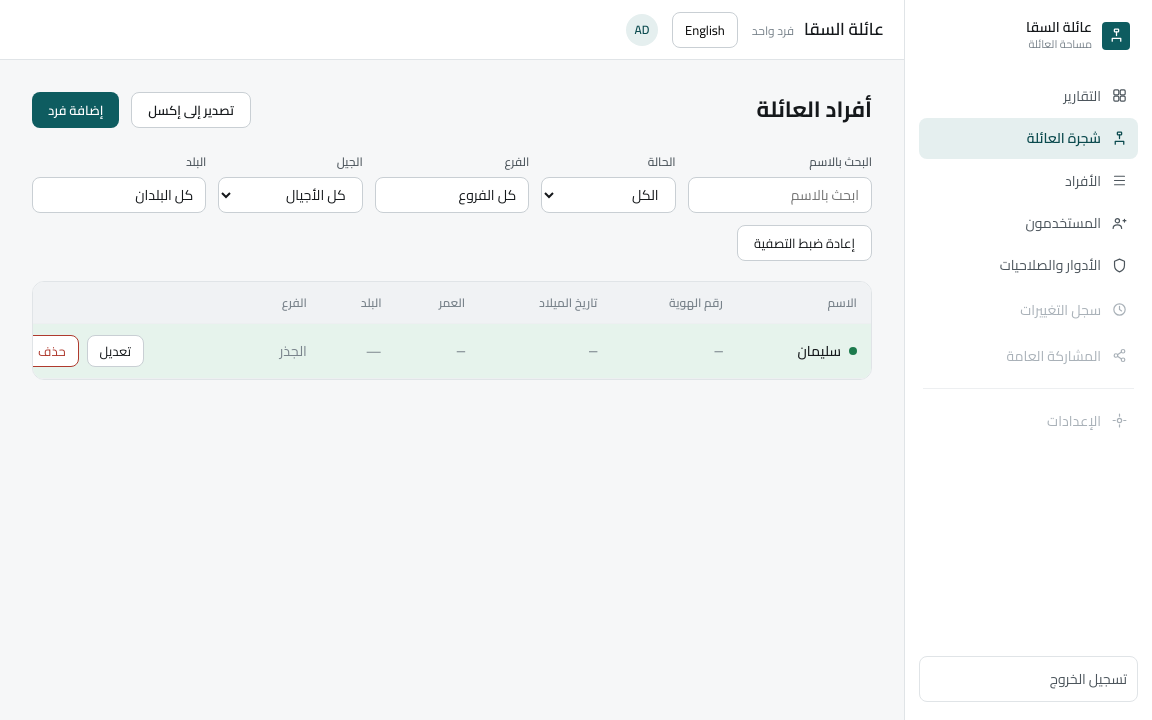
Test: MembersPage › translates a server error code instead of showing it raw
expect the text "سليمان" is shown: met, box [797, 340, 841, 363]
Click the button "حذف" at (52, 351), box [25, 335, 79, 367]
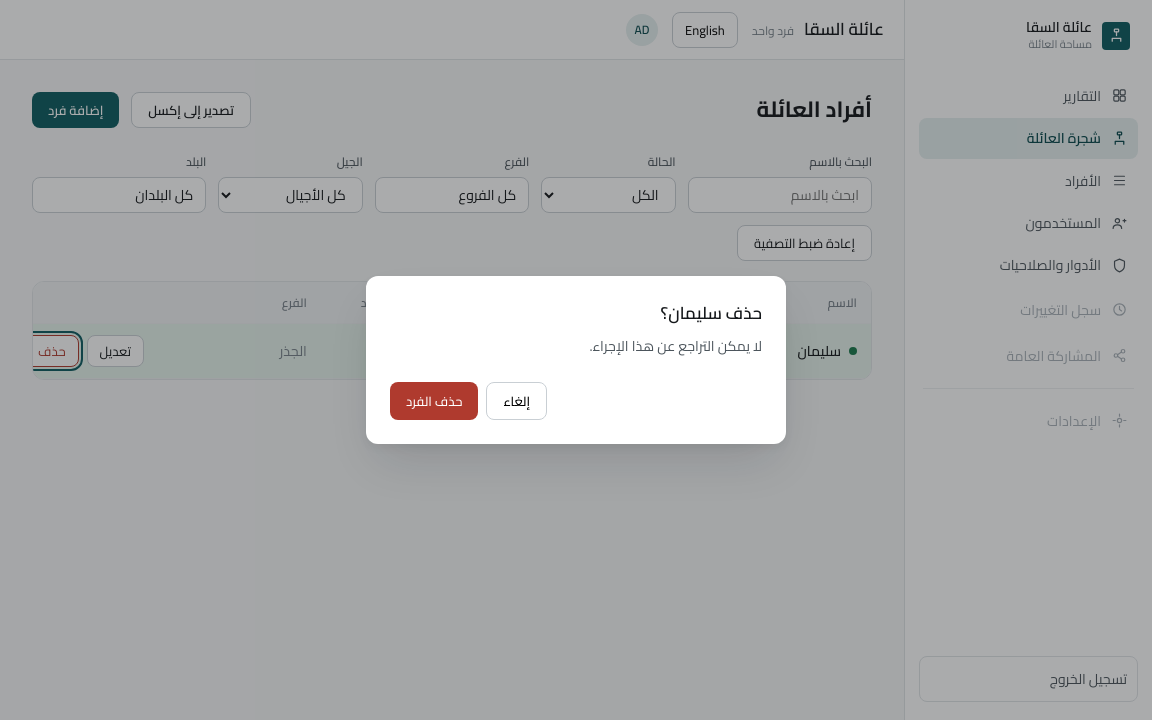
Click the button "حذف الفرد" at (434, 401), box [390, 382, 478, 420]
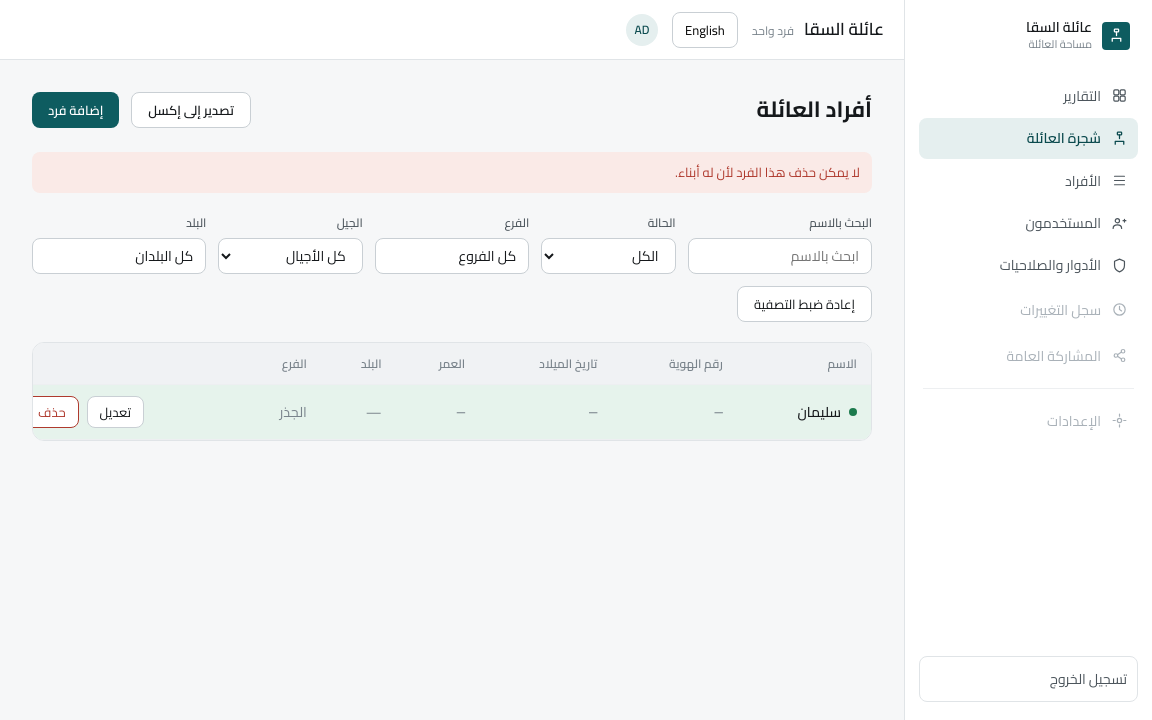
expect the text "لا يمكن حذف هذا الفرد لأن له أبناء." is shown: met, box [32, 152, 872, 193]
